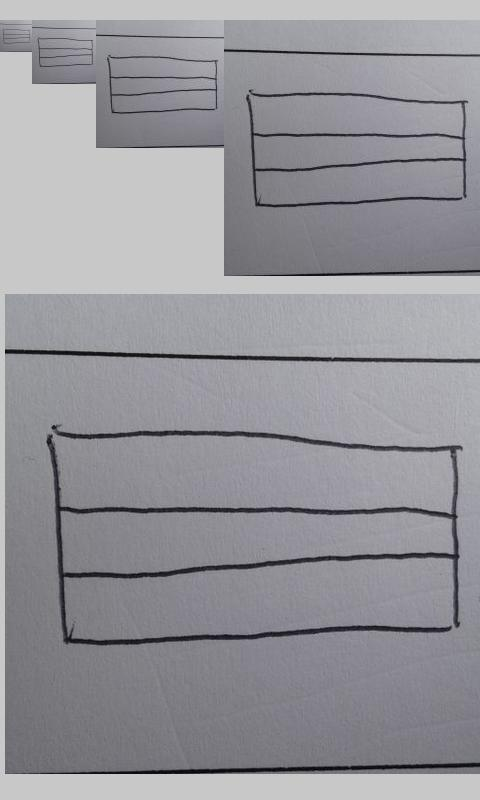list_view: (46, 425, 463, 648), (245, 85, 470, 212), (107, 55, 219, 114), (36, 37, 95, 68), (2, 28, 31, 44)
